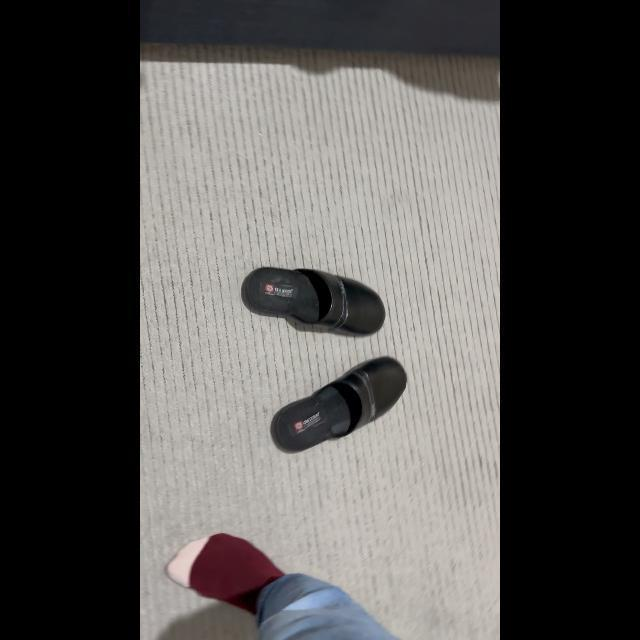slipper: (270, 352, 410, 452), (242, 262, 386, 338)
